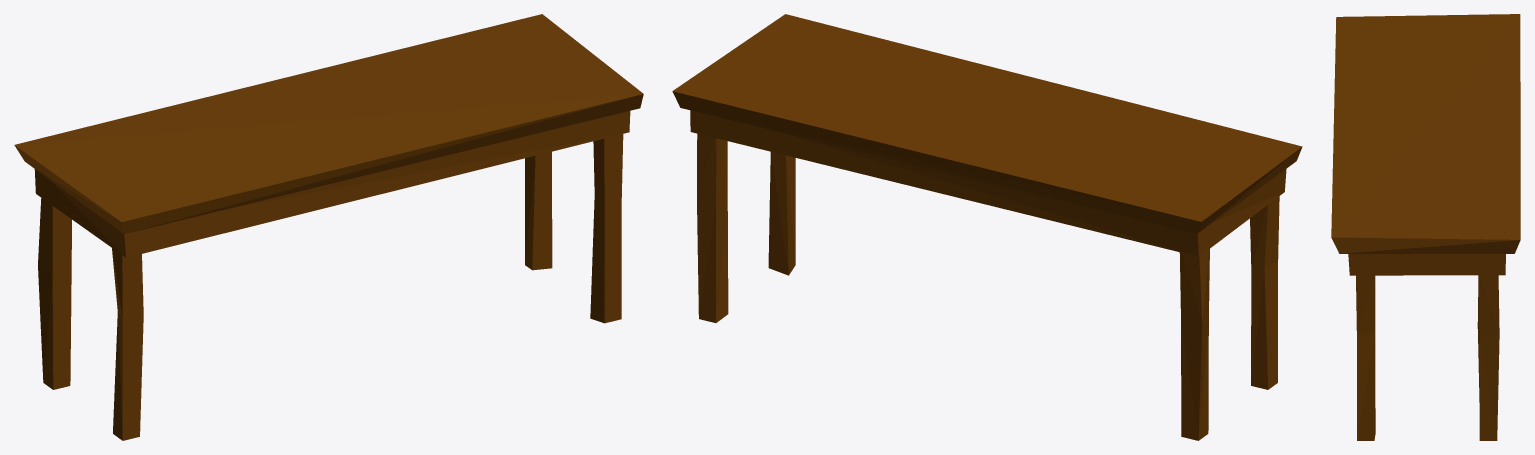
The model's file is table.fbx.
3 renders of one model, left to right at view 1: azimuth 30°, elevation 25°; view 2: azimuth 150°, elevation 25°; view 3: azimuth 270°, elevation 25°, orthographic. The views are drawn at different scales.
Parts seen in each view (by area): view 1: Cube, Cube.001, Cube.002; view 2: Cube, Cube.001, Cube.002; view 3: Cube, Cube.001, Cube.002.
Boxes of the visible parts, x1,y1,x2,y2 form: Cube: (14,14,643,234); Cube.001: (38,134,623,440); Cube.002: (34,111,630,257); Cube: (672,14,1302,233); Cube.001: (697,133,1279,440); Cube.002: (690,110,1286,256); Cube: (1331,14,1520,253); Cube.001: (1356,275,1499,440); Cube.002: (1348,254,1505,275).
Bounding box in the file's own units: 614 × 262 × 216.
